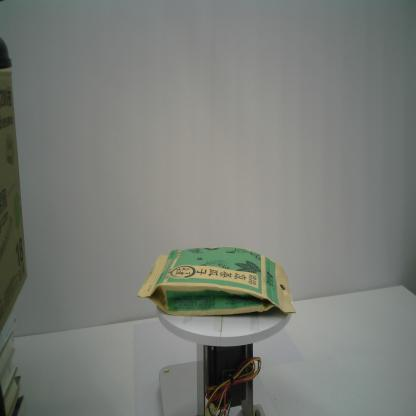Dried Food: (135, 246, 296, 319)
